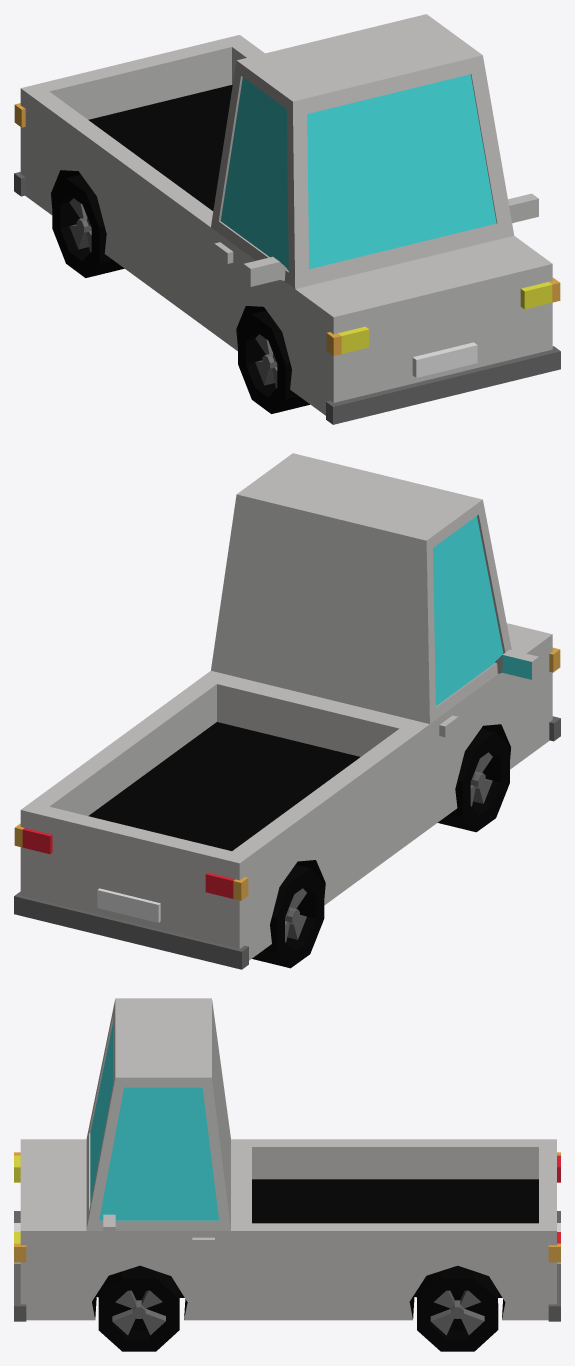
Rendered from Car3.fbx.
3 renders of one model, top to bottom at view 1: azimuth 30°, elevation 25°; view 2: azimuth 150°, elevation 25°; view 3: azimuth 270°, elevation 25°, orthographic. The views are drawn at different scales.
Parts seen in each view (by area): view 1: Car Body.003, Front Bumper.003, Rear Right Wheel.003, Front Right Wheel.003, Head Lights.003, Door Mirrors.003, Front License Plate.003; view 2: Car Body.003, Rear Bumper.003, Front Right Wheel.003, Rear Right Wheel.003, Break Lights.003, Rear License Plate.003, Door Mirrors.003; view 3: Car Body.003, Front Left Wheel.003, Rear Left Wheel.003, Front Bumper.003, Head Lights.003, Rear Bumper.003.
Part boxes in pixels (x1,y1,x2,y2): Car Body.003: (20, 14, 552, 415); Front Bumper.003: (326, 346, 560, 424); Rear Right Wheel.003: (52, 174, 124, 277); Front Right Wheel.003: (238, 310, 309, 413); Head Lights.003: (326, 277, 560, 355); Door Mirrors.003: (243, 193, 538, 286); Front License Plate.003: (412, 342, 477, 377); Car Body.003: (20, 453, 552, 960); Rear Bumper.003: (14, 891, 248, 969); Front Right Wheel.003: (437, 728, 509, 832); Rear Right Wheel.003: (252, 864, 324, 968); Break Lights.003: (14, 823, 248, 900); Rear License Plate.003: (97, 888, 160, 922); Door Mirrors.003: (495, 649, 538, 679); Car Body.003: (20, 998, 556, 1320); Front Left Wheel.003: (98, 1265, 179, 1351); Rear Left Wheel.003: (417, 1265, 498, 1351); Front Bumper.003: (14, 1211, 26, 1321); Head Lights.003: (14, 1152, 26, 1262); Rear Bumper.003: (548, 1211, 560, 1321).
Bounding box in the file's own units: 409 × 422 × 784.
